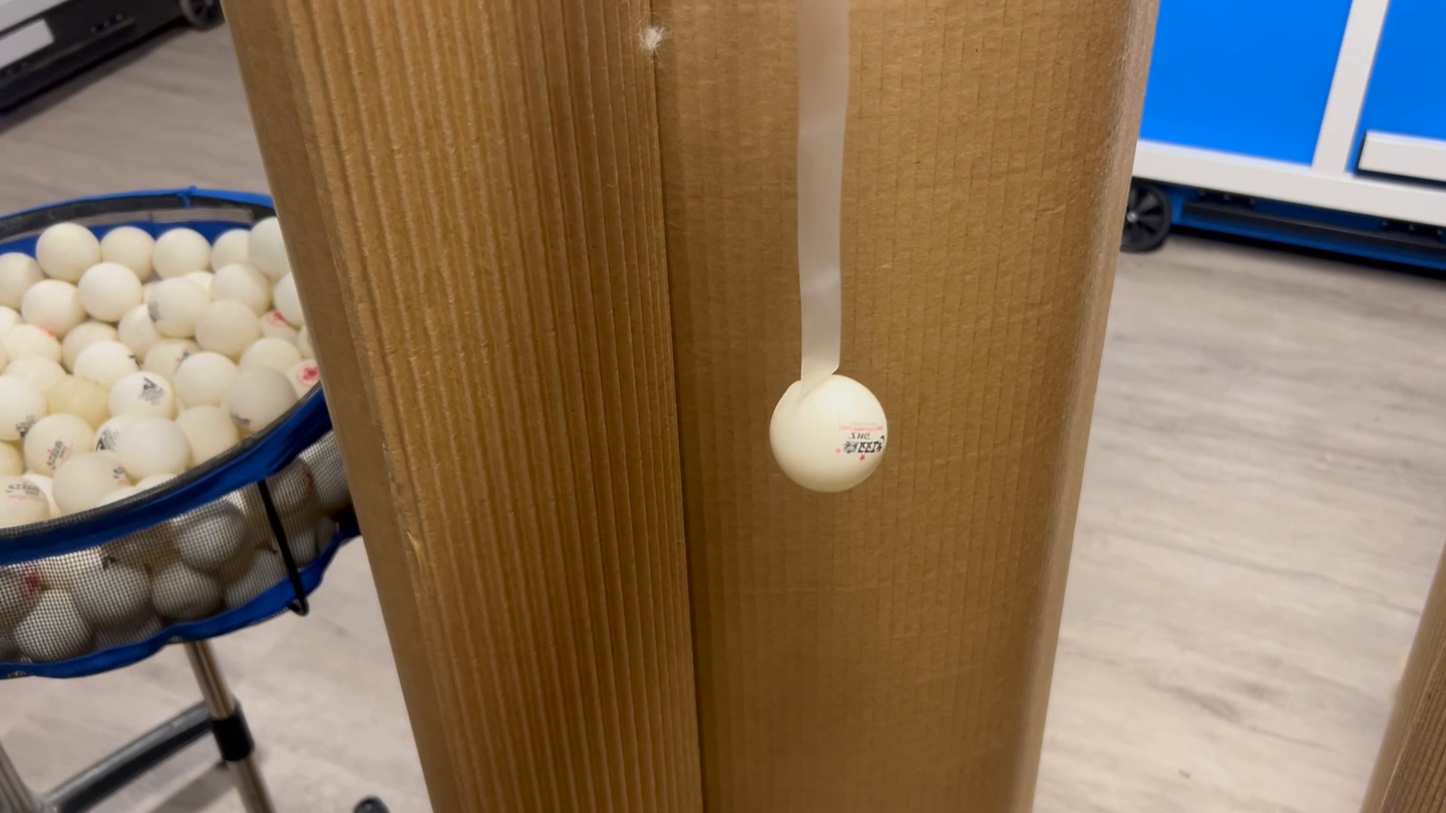Ball: (762, 366, 899, 503)
